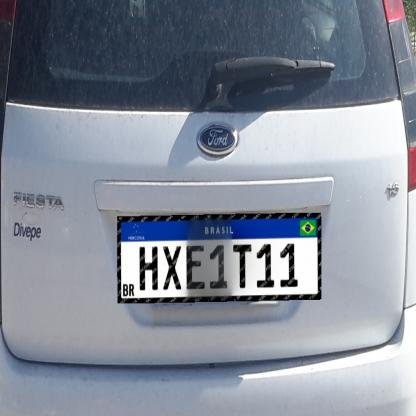PlacaM: (117, 213, 322, 303)
